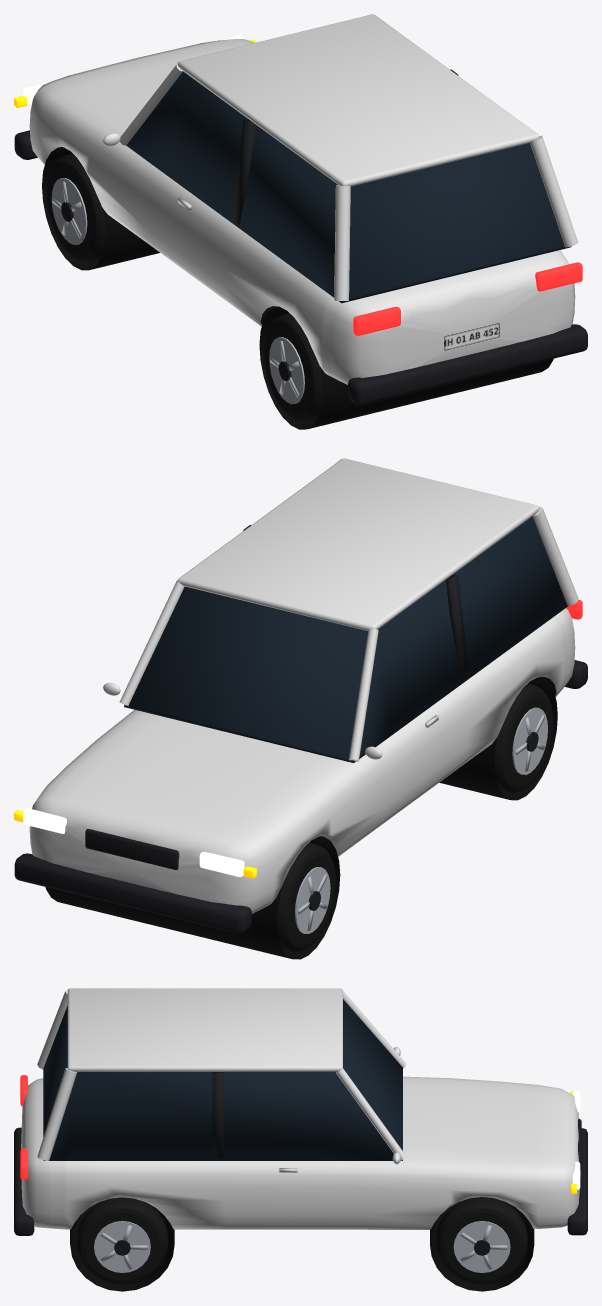
File: suv.glb
3 renders of one model, top to bottom at view 1: azimuth 30°, elevation 25°; view 2: azimuth 150°, elevation 25°; view 3: azimuth 270°, elevation 25°, orthographic. The views are drawn at different scales.
Parts seen in each view (by area): view 1: body, car_Glass, car_CarPaint, car_Trim, car_ArchLiner, car_Rubber, car_RimSilver, car_TailLight, car_PlateMH; view 2: body, car_Glass, car_CarPaint, car_Trim, car_ArchLiner, car_Rubber, car_RimSilver, car_HeadLight; view 3: body, car_Glass, car_CarPaint, car_Rubber, car_RimSilver, car_Trim, car_ArchLiner, car_TailLight.
Part boxes in pixels (left/top/right/bottom): body: left=29, top=39, right=575, bottom=384; car_Glass: left=126, top=71, right=571, bottom=303; car_CarPaint: left=103, top=14, right=578, bottom=300; car_Trim: left=14, top=69, right=587, bottom=405; car_ArchLiner: left=42, top=147, right=553, bottom=429; car_Rubber: left=46, top=153, right=322, bottom=422; car_RimSilver: left=51, top=178, right=304, bottom=404; car_TailLight: left=353, top=262, right=582, bottom=335; car_PlateMH: left=444, top=322, right=499, bottom=351; body: left=29, top=608, right=575, bottom=913; car_Glass: left=124, top=516, right=567, bottom=762; car_CarPaint: left=103, top=458, right=578, bottom=761; car_Trim: left=14, top=525, right=587, bottom=933; car_ArchLiner: left=45, top=677, right=557, bottom=959; car_Rubber: left=277, top=683, right=553, bottom=952; car_RimSilver: left=295, top=707, right=547, bottom=933; car_HeadLight: left=23, top=808, right=244, bottom=876; body: left=21, top=1076, right=580, bottom=1229; car_Glass: left=43, top=999, right=402, bottom=1160; car_CarPaint: left=37, top=988, right=406, bottom=1164; car_Rubber: left=76, top=1197, right=527, bottom=1285; car_RimSilver: left=94, top=1221, right=510, bottom=1272; car_Trim: left=14, top=1072, right=587, bottom=1255; car_ArchLiner: left=70, top=1197, right=534, bottom=1291; car_TailLight: left=20, top=1075, right=27, bottom=1179.
Bounding box in the file's own units: 2.09 × 1.88 × 4.5.
11 materials, 1 textured.
